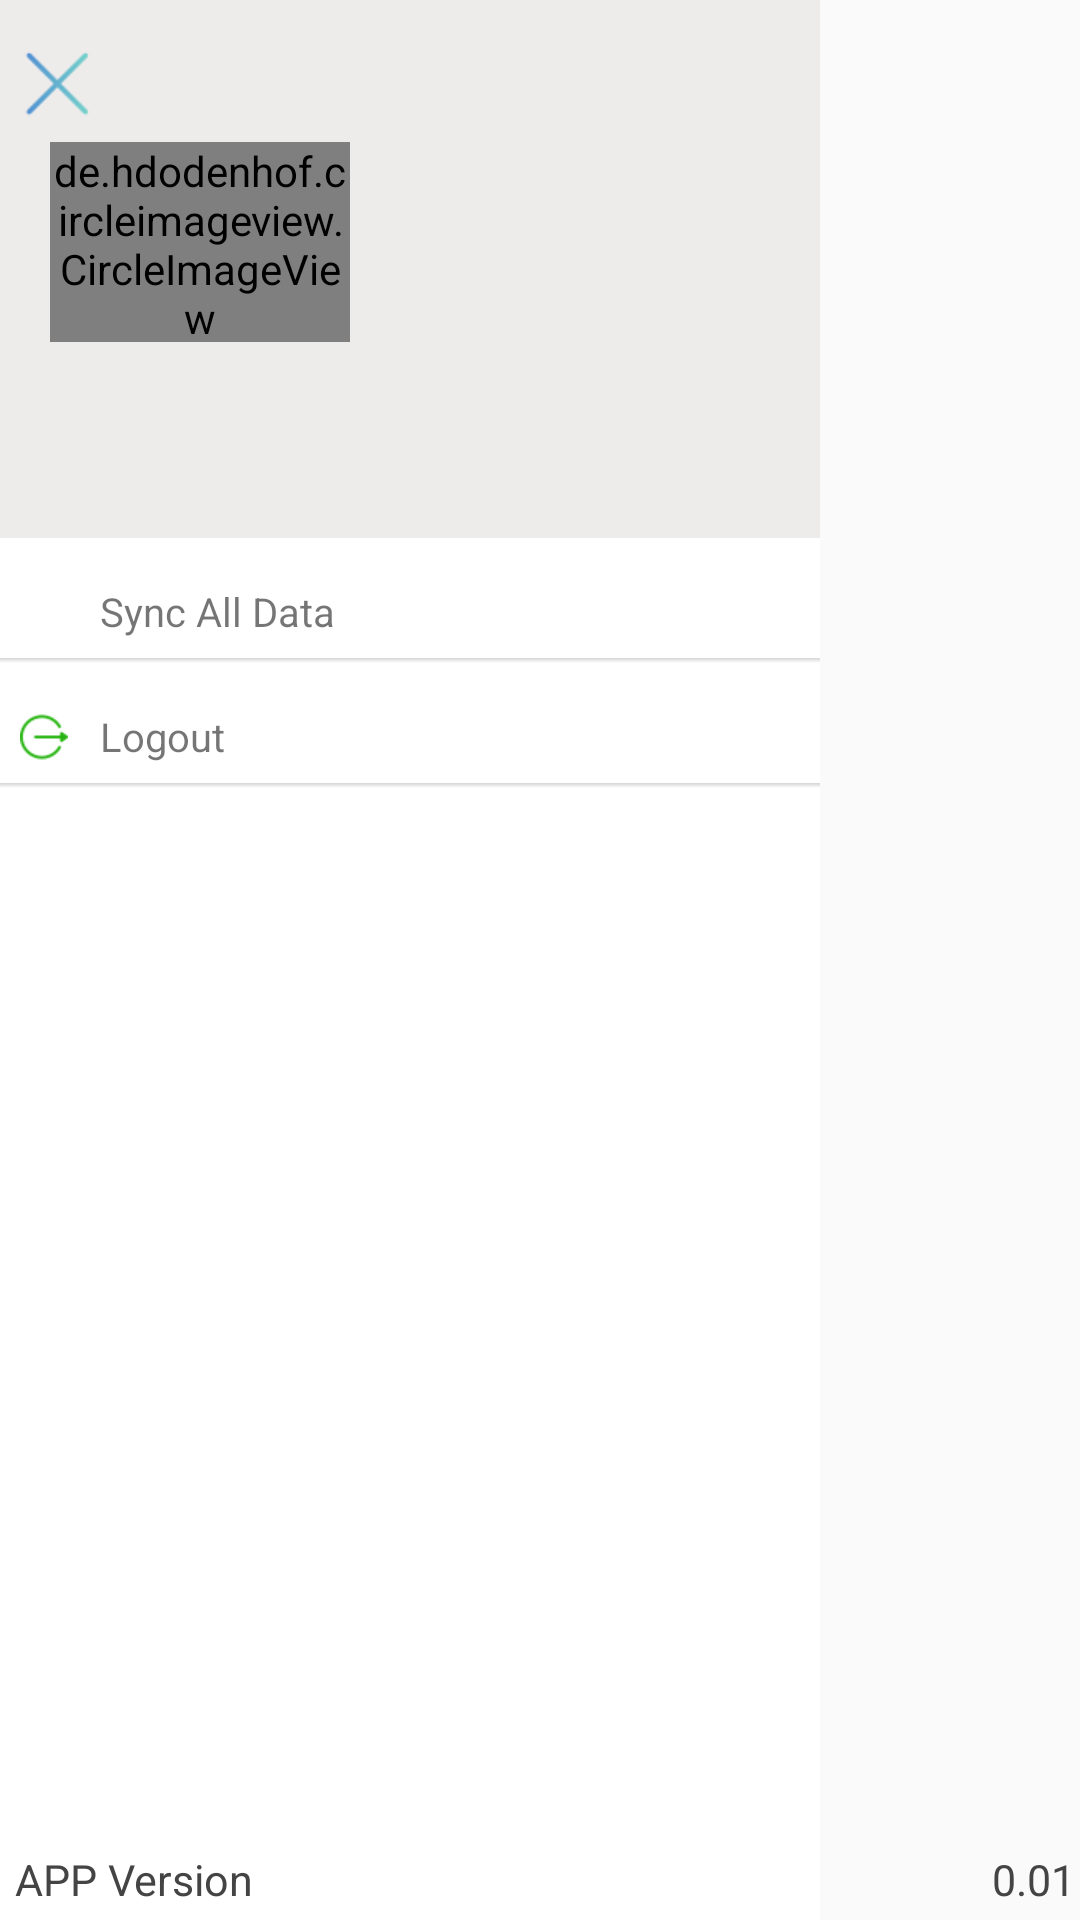

Icons on this 1080px×1920px Android screen, each with the point to tap as (x=x, y=y):
close: (x=57, y=84)
